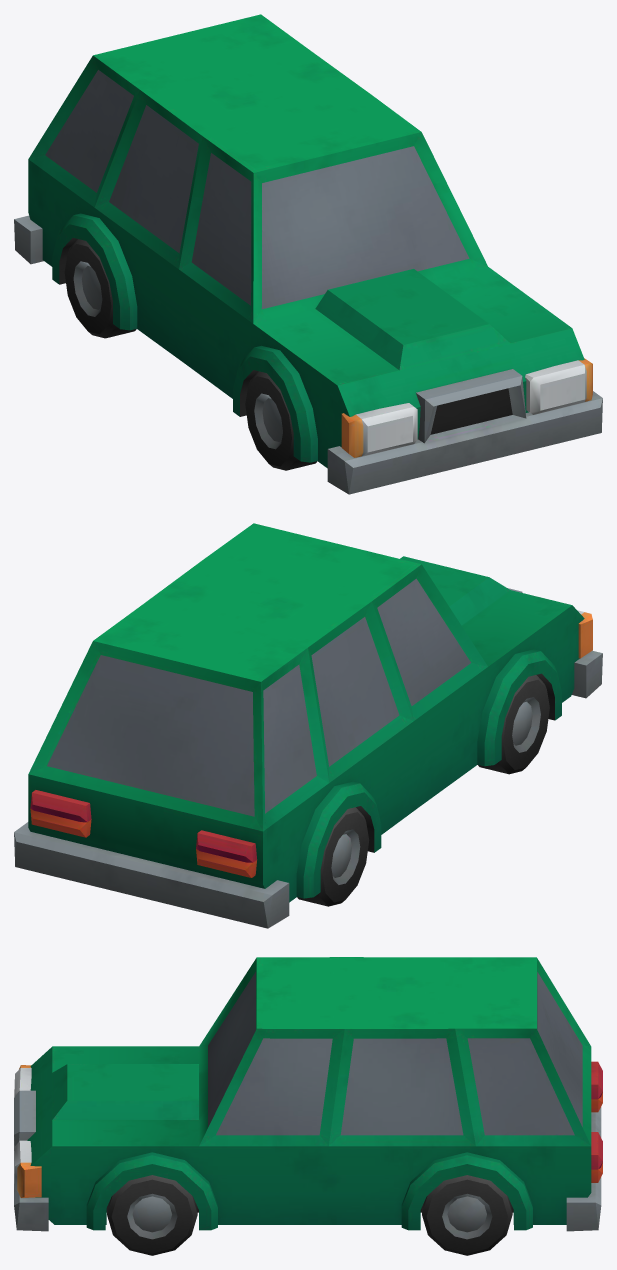
File: car_stationwagon.glb
The picture shows the model from 3 angles, top to bottom: view 1: azimuth 30°, elevation 25°; view 2: azimuth 150°, elevation 25°; view 3: azimuth 270°, elevation 25°; orthographic projection. The views are drawn at different scales.
Parts seen in each view (by area): view 1: car_stationwagon, car_stationwagon_wheel_front_right, car_stationwagon_wheel_rear_right; view 2: car_stationwagon, car_stationwagon_wheel_rear_right, car_stationwagon_wheel_front_right; view 3: car_stationwagon, car_stationwagon_wheel_rear_left, car_stationwagon_wheel_front_left.
Boxes of the visible parts, left/top/right/bottom form: car_stationwagon: left=14, top=14, right=602, bottom=494; car_stationwagon_wheel_front_right: left=245, top=371, right=317, bottom=470; car_stationwagon_wheel_rear_right: left=64, top=239, right=136, bottom=338; car_stationwagon: left=14, top=523, right=602, bottom=928; car_stationwagon_wheel_rear_right: left=297, top=807, right=369, bottom=906; car_stationwagon_wheel_front_right: left=478, top=675, right=549, bottom=774; car_stationwagon: left=14, top=957, right=602, bottom=1231; car_stationwagon_wheel_rear_left: left=422, top=1175, right=512, bottom=1255; car_stationwagon_wheel_front_left: left=107, top=1175, right=197, bottom=1255.
Bounding box in the file's own units: 0.419 × 0.3688 × 0.9381.
Materials: 2 (2 with a texture image).
